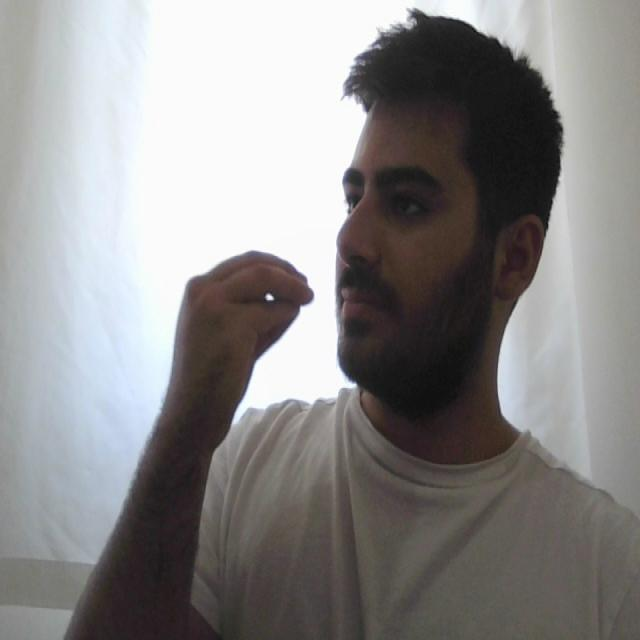Yemek: (177, 248, 396, 342)
